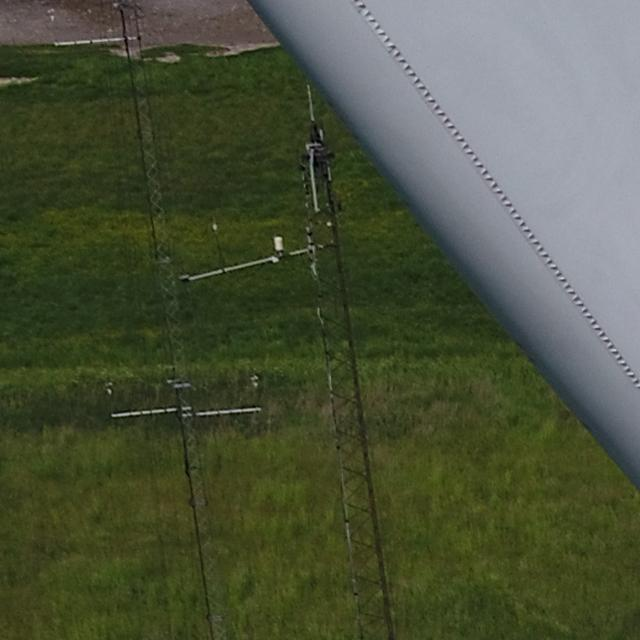damage: (418, 99, 516, 204), (538, 263, 632, 368), (352, 5, 446, 105), (488, 199, 565, 268)
